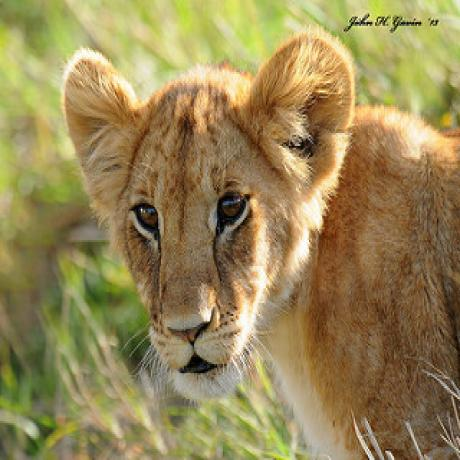Lion: (60, 29, 460, 460)
